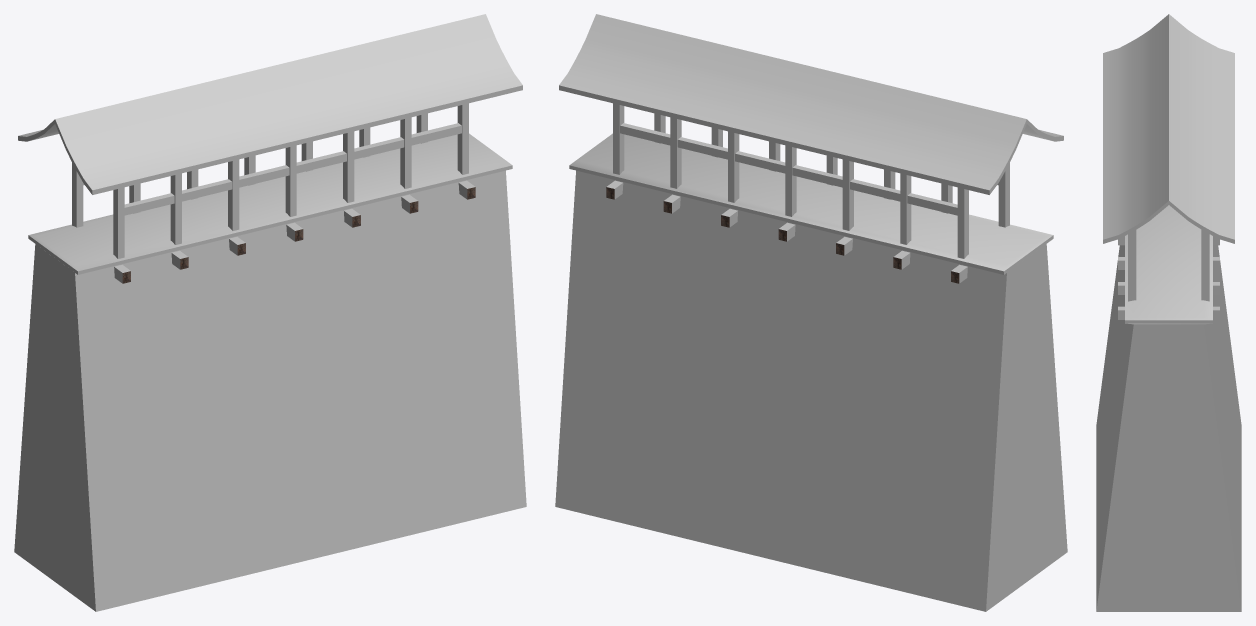
Rendered from stone wall.fbx.
The picture shows the model from 3 angles, left to right: view 1: azimuth 30°, elevation 25°; view 2: azimuth 150°, elevation 25°; view 3: azimuth 270°, elevation 25°; orthographic projection. The views are drawn at different scales.
Visible parts, largest first — view 1: polySurface1766; view 2: polySurface1766; view 3: polySurface1766.
Boxes of the visible parts, x1,y1,x2,y2 form: polySurface1766: (14, 14, 526, 611); polySurface1766: (555, 14, 1067, 611); polySurface1766: (1096, 14, 1241, 611).
Bounding box in the file's own units: 15.14 × 15.41 × 4.93.
